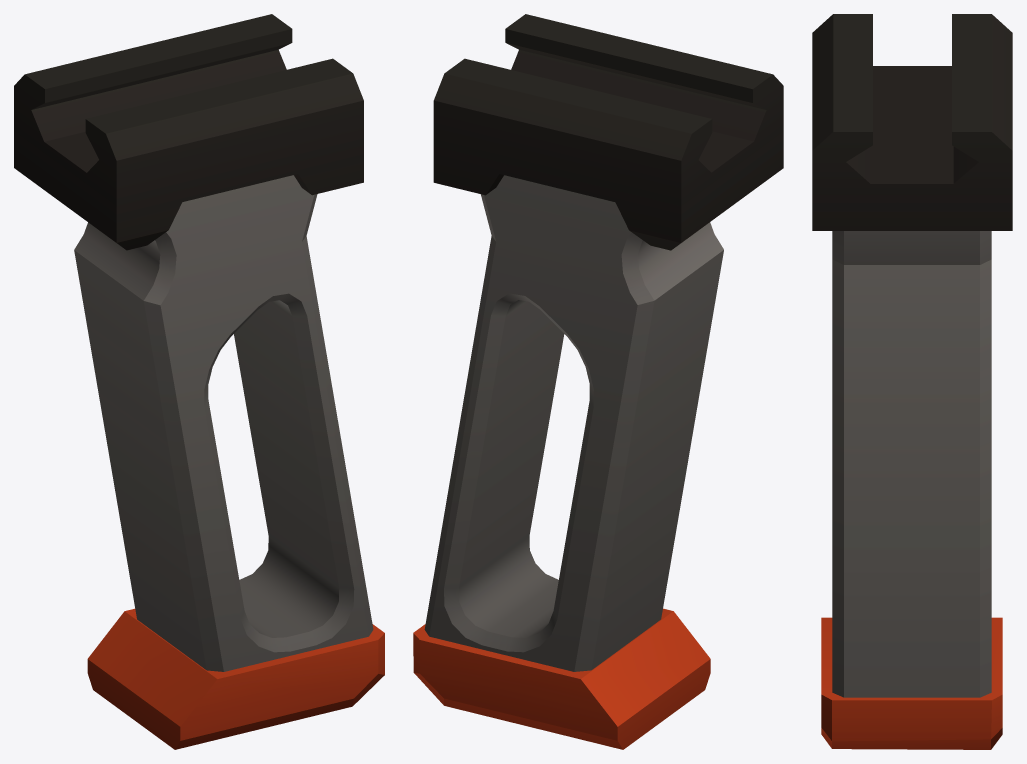
Rendered from Foregrip_Vertical_05.fbx.
3 views of the same model, side by side, from view 1: azimuth 30°, elevation 25°; view 2: azimuth 150°, elevation 25°; view 3: azimuth 270°, elevation 25° (orthographic). The views are drawn at different scales.
Visible parts, largest first — view 1: Foregrip_Vertical_05; view 2: Foregrip_Vertical_05; view 3: Foregrip_Vertical_05.
Part boxes in pixels (box(x1,y1,x2,y2)): Foregrip_Vertical_05: box(14, 14, 384, 749); Foregrip_Vertical_05: box(413, 14, 783, 749); Foregrip_Vertical_05: box(812, 14, 1012, 749).
Size of the model in its own units: 6.14 by 13.33 by 3.91.
